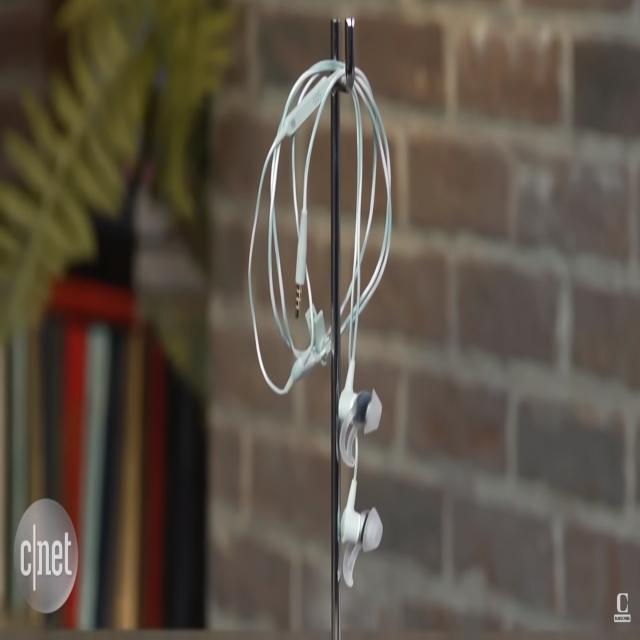Earphone: (247, 59, 393, 592)
